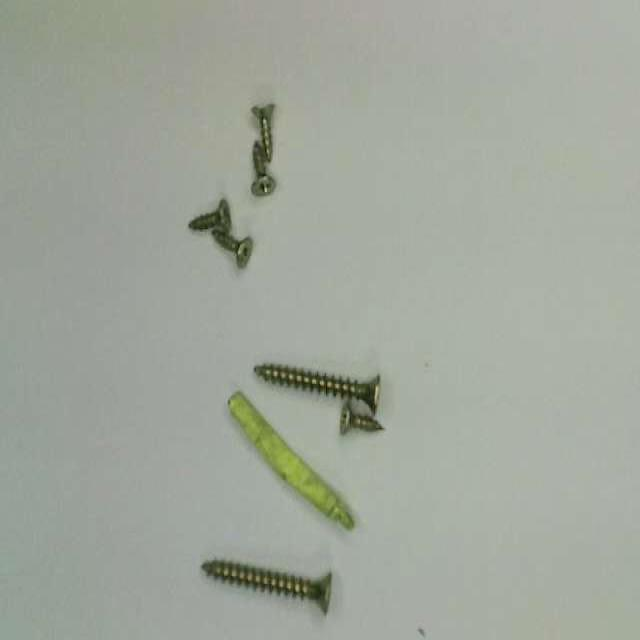Parafuso: (202, 560, 330, 613), (256, 364, 379, 412), (251, 141, 275, 196), (189, 199, 229, 232), (214, 233, 252, 267), (341, 403, 383, 433), (252, 104, 274, 161)
